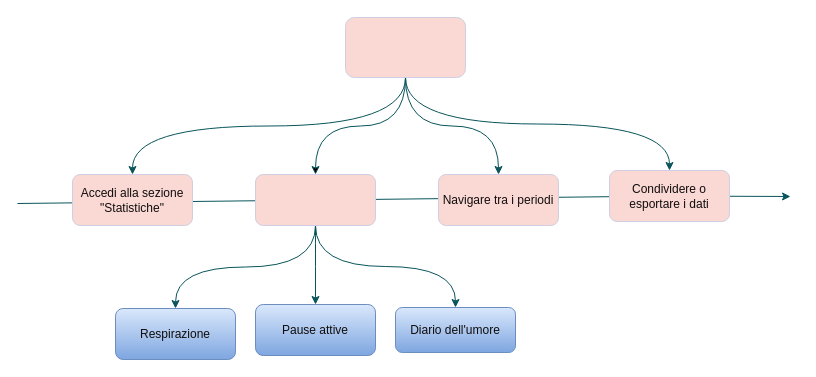
The diagram is 816 pixels wide and 377 high, and some of its shapes have lost their labels. Here are the shapes that lost their labels. From the top down, the centre of each, then its label:
(405,47): Statistiche
(315,200): Visualizzare i grafici
